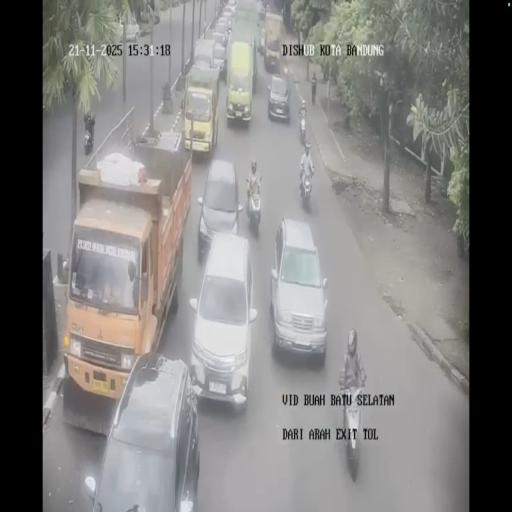car: (188, 231, 258, 408), (269, 216, 327, 362), (196, 156, 242, 261), (182, 80, 218, 156), (192, 38, 222, 82), (267, 73, 289, 122), (118, 19, 140, 41), (210, 29, 228, 51), (220, 2, 237, 25), (258, 26, 266, 54), (139, 8, 150, 22), (258, 1, 266, 20)
motorcycle: (340, 375, 366, 474), (246, 176, 262, 233), (298, 161, 314, 207), (83, 127, 93, 155), (299, 115, 307, 145)
truck: (62, 134, 190, 422), (225, 37, 256, 124), (233, 0, 261, 46), (262, 10, 282, 70)
